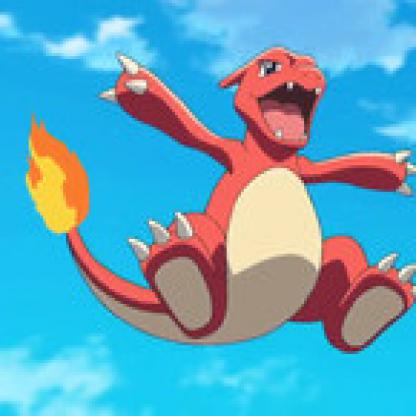Charmeleon: (15, 37, 414, 406)
